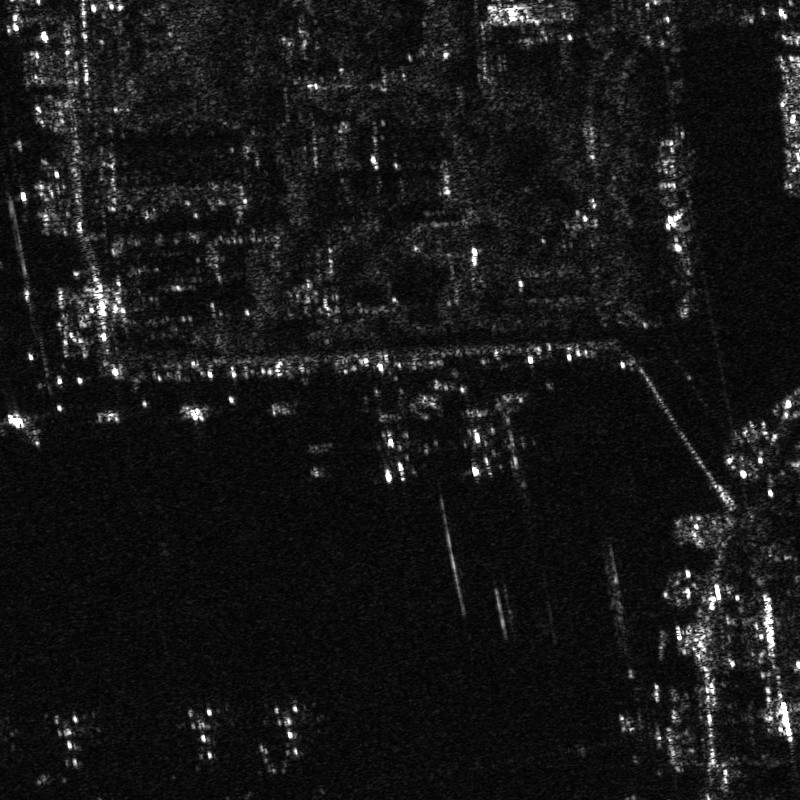ARJ21: (357, 407, 421, 493)
Boeing737: (450, 403, 502, 487)
other: (37, 705, 116, 780), (251, 694, 331, 768), (173, 696, 235, 768)
